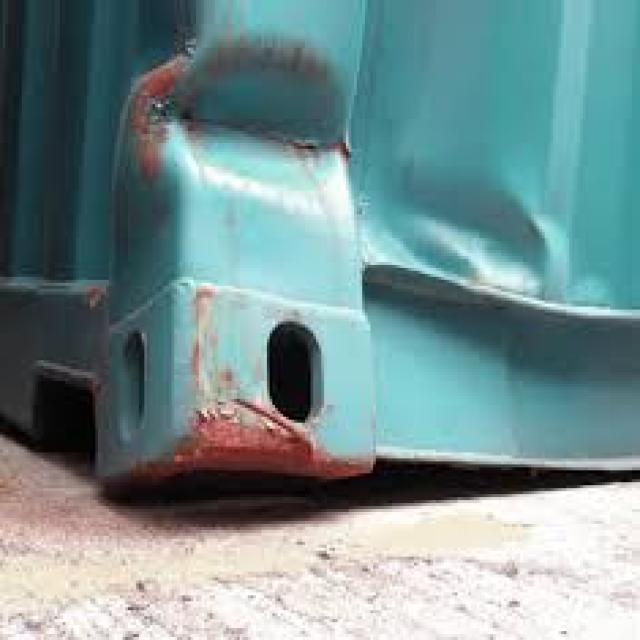dent: (101, 26, 361, 227), (359, 143, 575, 316)
